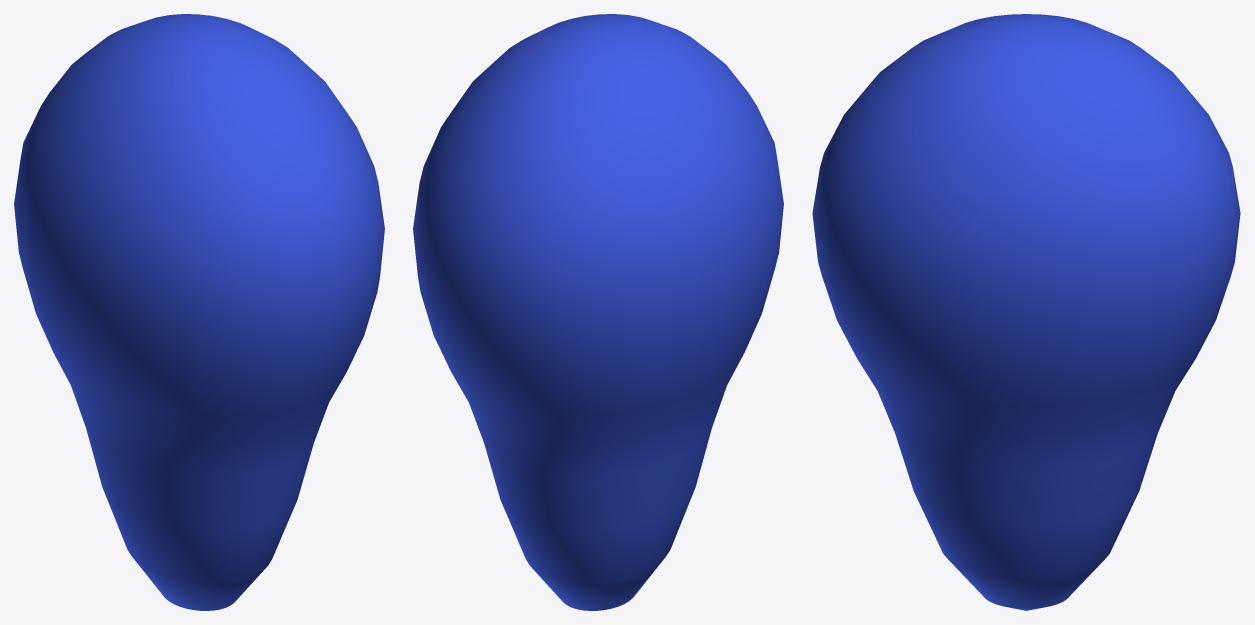
The model's file is avatar_body_blue.glb.
3 renders of one model, left to right at view 1: azimuth 30°, elevation 25°; view 2: azimuth 150°, elevation 25°; view 3: azimuth 270°, elevation 25°, orthographic.
Visible parts, largest first — view 1: Sphere; view 2: Sphere; view 3: Sphere.
Part boxes in pixels (x1,y1,x2,y2): Sphere: (14, 14, 384, 610); Sphere: (413, 14, 783, 610); Sphere: (812, 14, 1240, 610).
Bounding box in the file's own units: 1.3 × 2.36 × 1.57.
